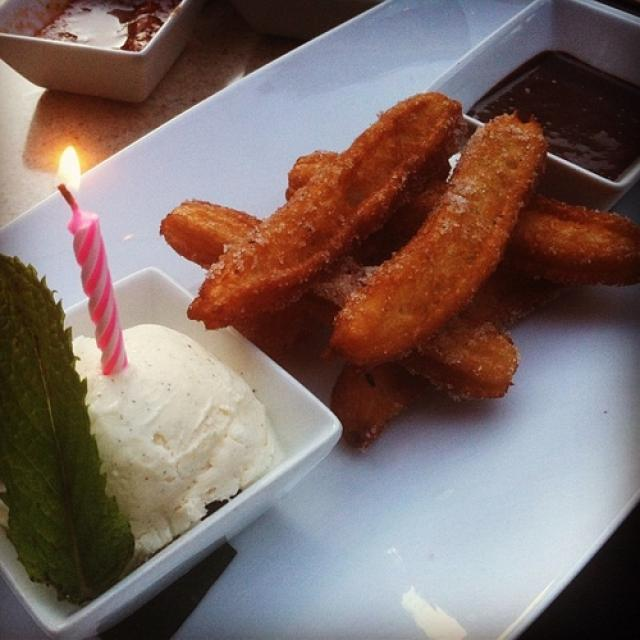炸货点心: (55, 58, 609, 572)
